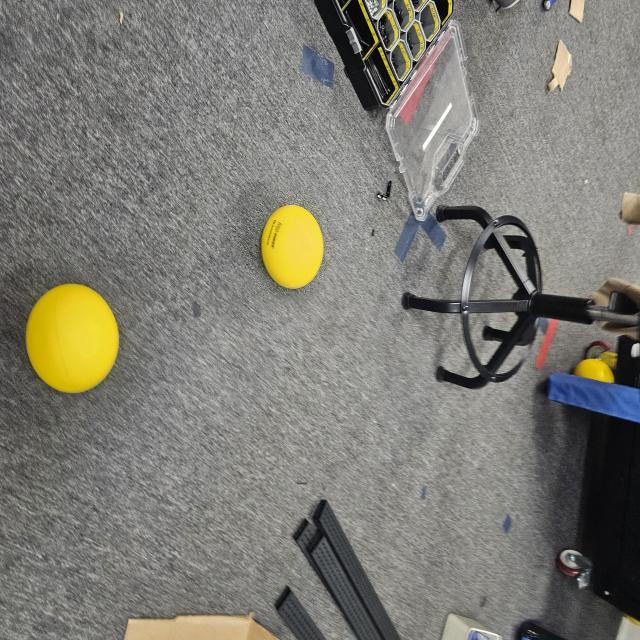Fuel: (20, 274, 128, 402), (256, 197, 328, 298)
